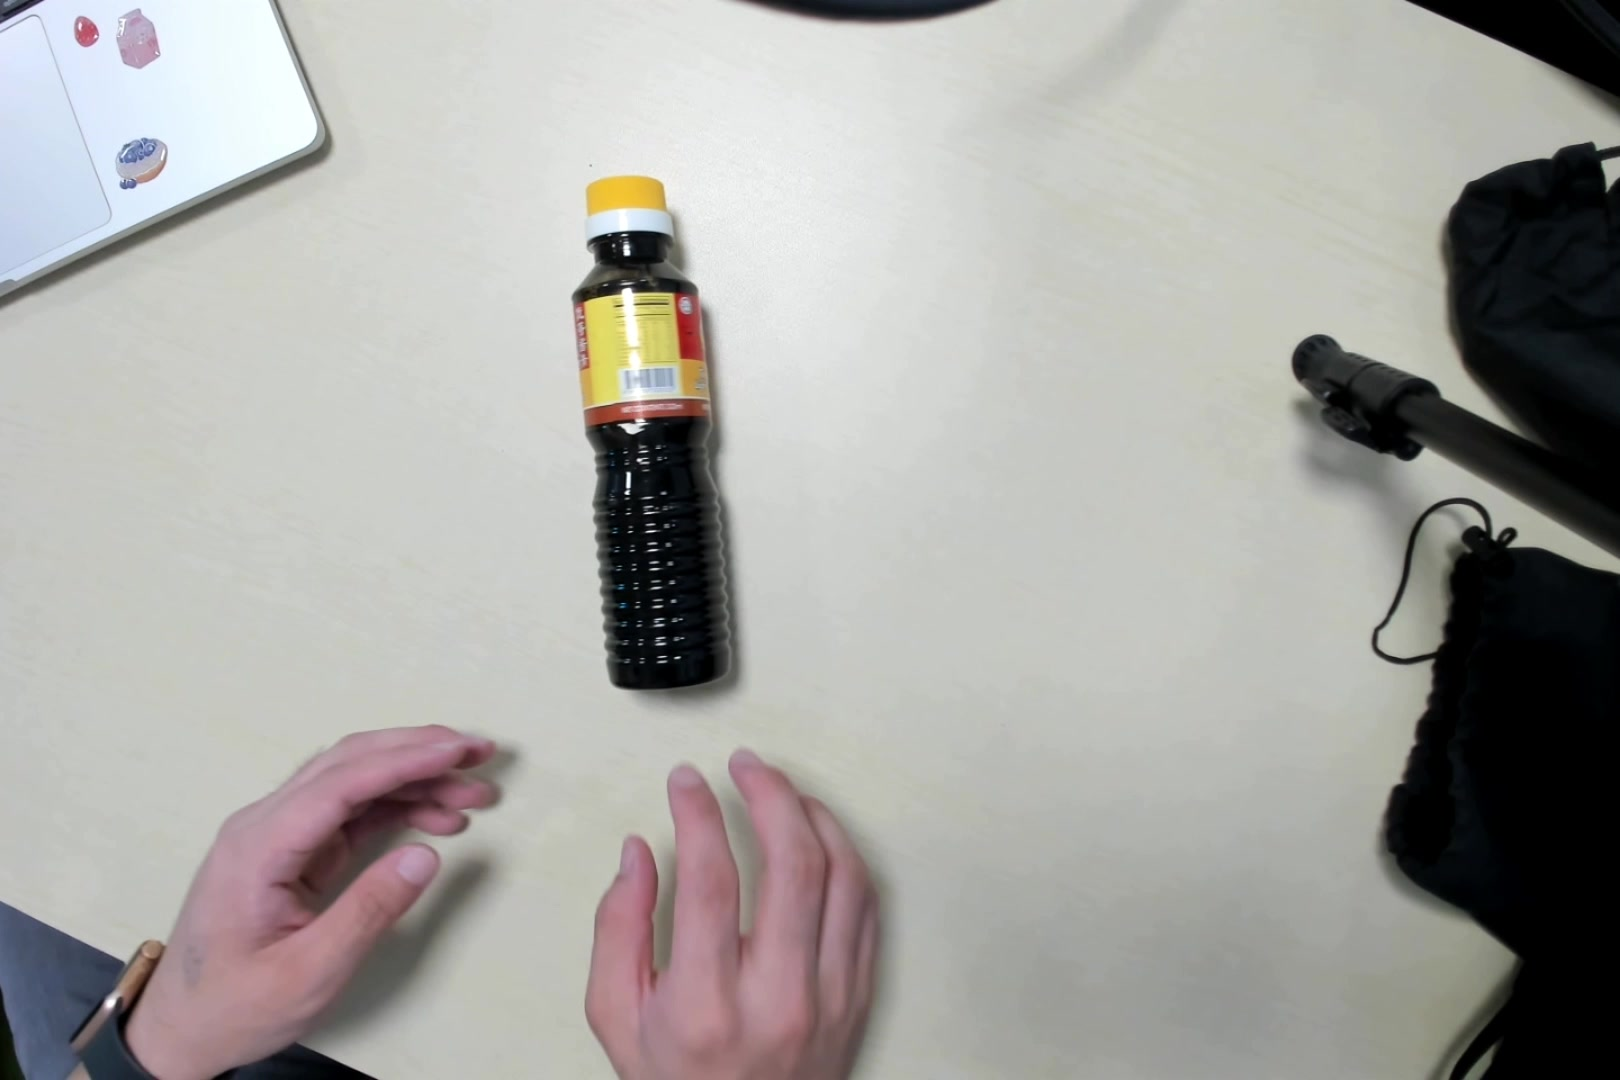LightSoySauce_300-399g_Halal_NonHealthy: (568, 169, 736, 693)
